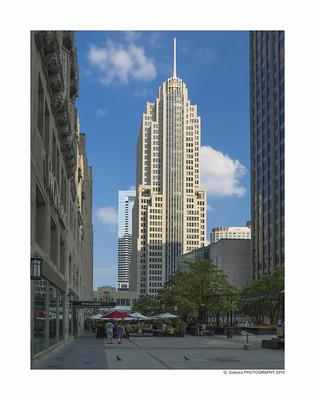building: (114, 73, 208, 296)
